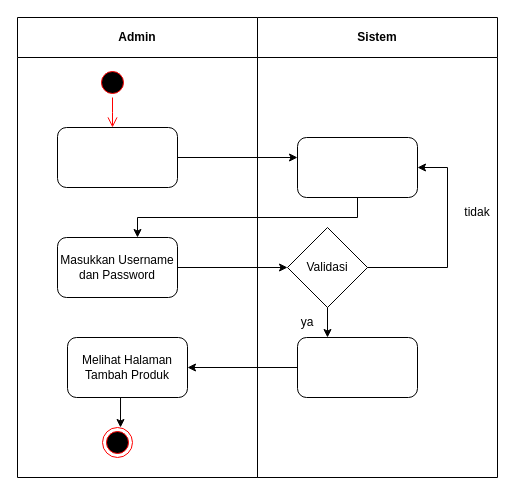
Some shapes in this 525 by 495 pixel diagram are drawn without their labels. The box of each missing label's shape, as (x1, y1, x2, y2) in pixels:
Membuka Website: (56, 126, 178, 188)
Menampilkan Halaman Login: (296, 136, 418, 198)
Menampilkan Halaman Tambah Produk: (296, 336, 418, 398)
